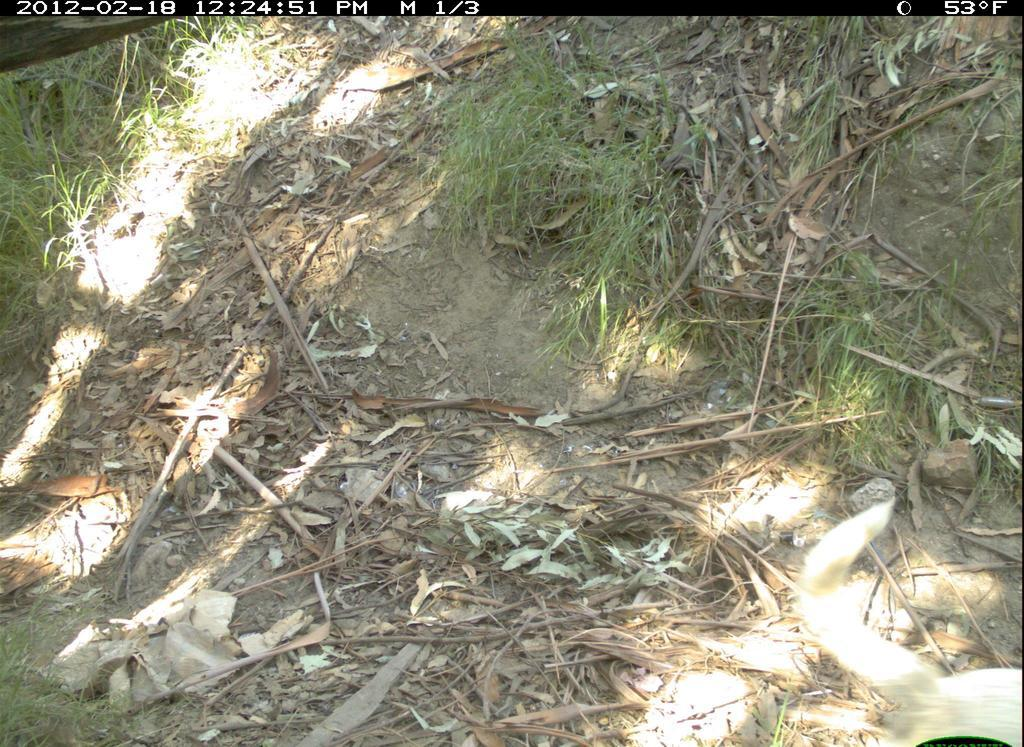dog: (788, 487, 1023, 742)
